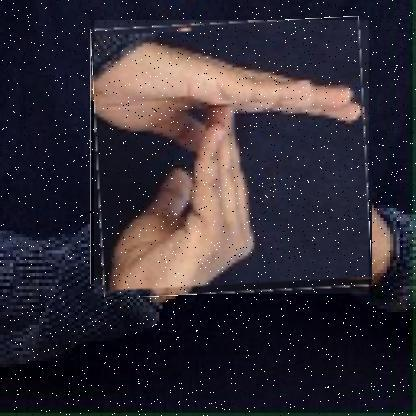Z: (94, 20, 370, 295)
